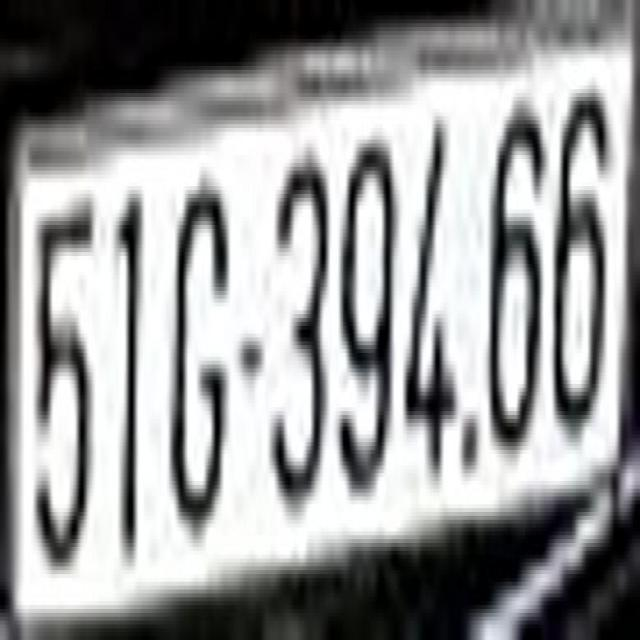1: (115, 182, 142, 528)
3: (280, 147, 322, 512)
4: (402, 128, 456, 485)
5: (38, 210, 88, 554)
6: (492, 89, 542, 446), (554, 77, 603, 419)
9: (338, 136, 392, 477)
G: (172, 186, 226, 512)
